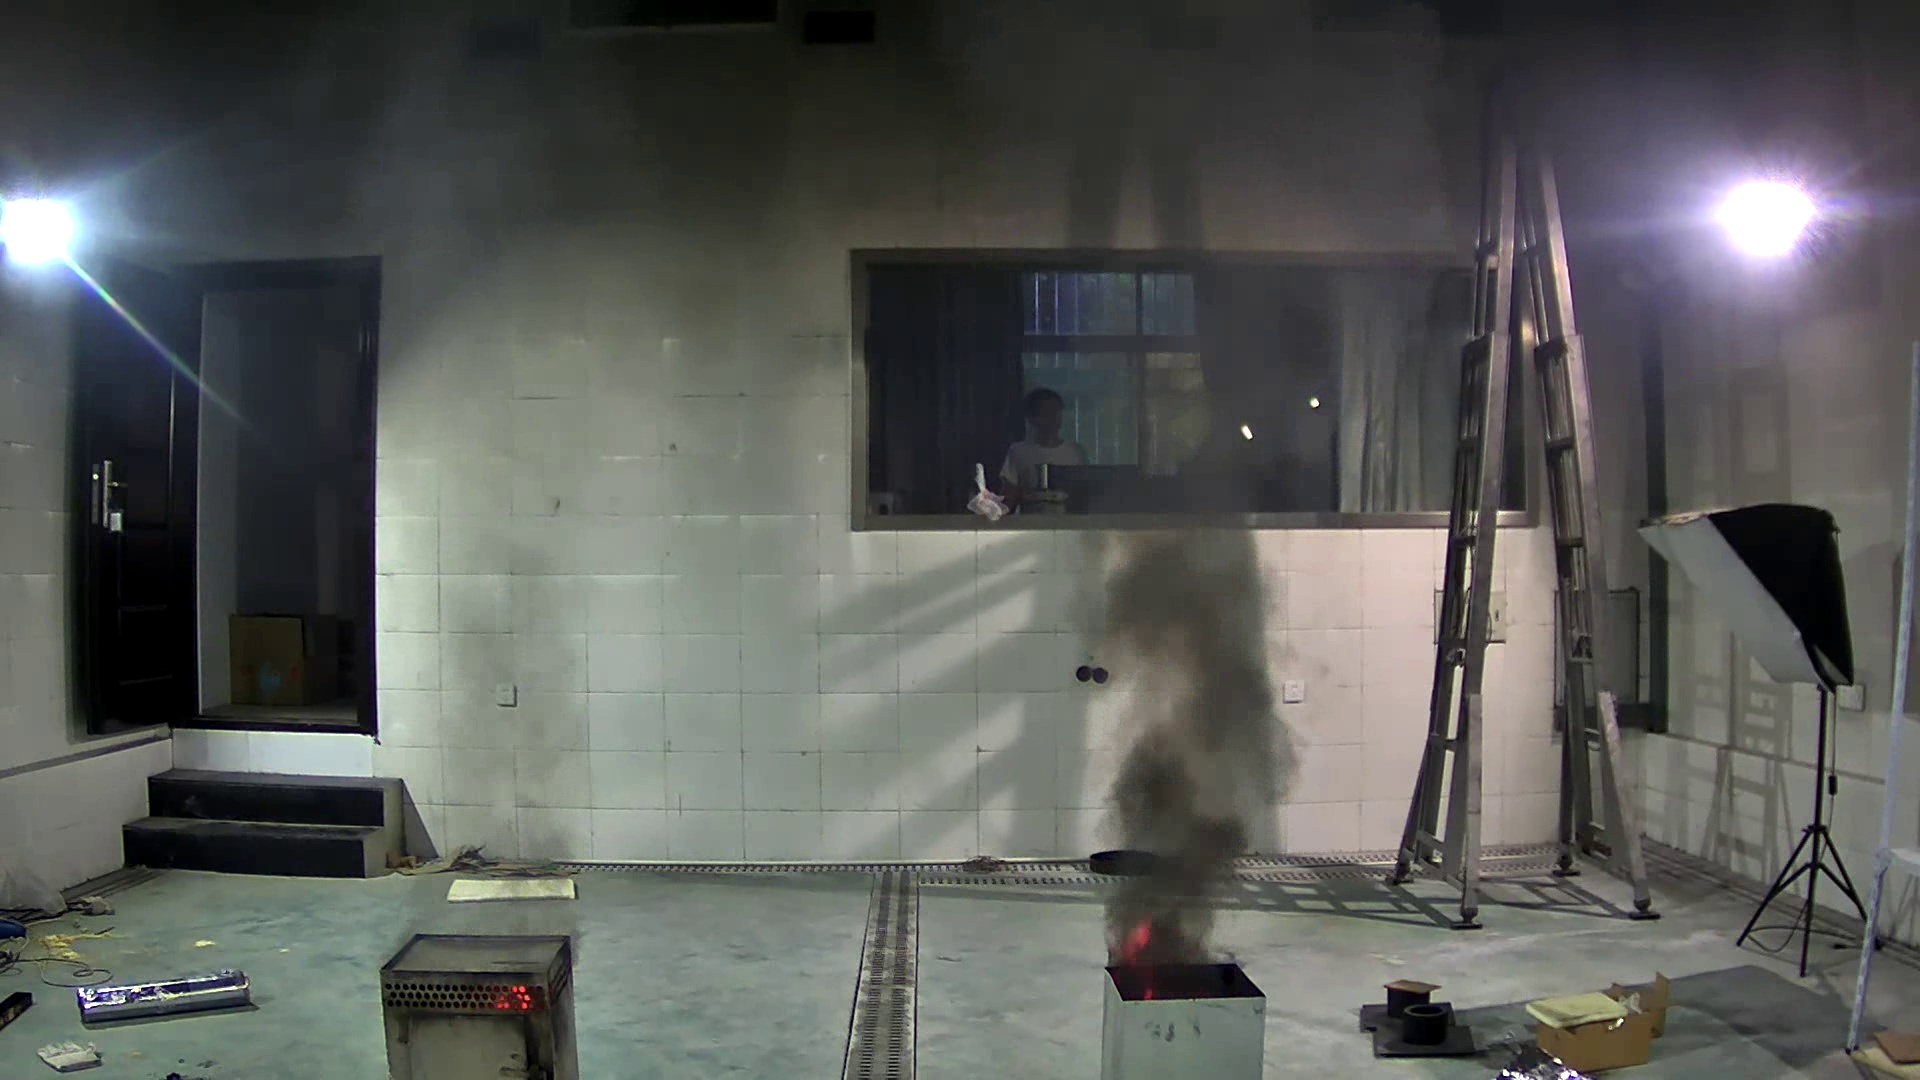smoke: (1088, 484, 1305, 961)
